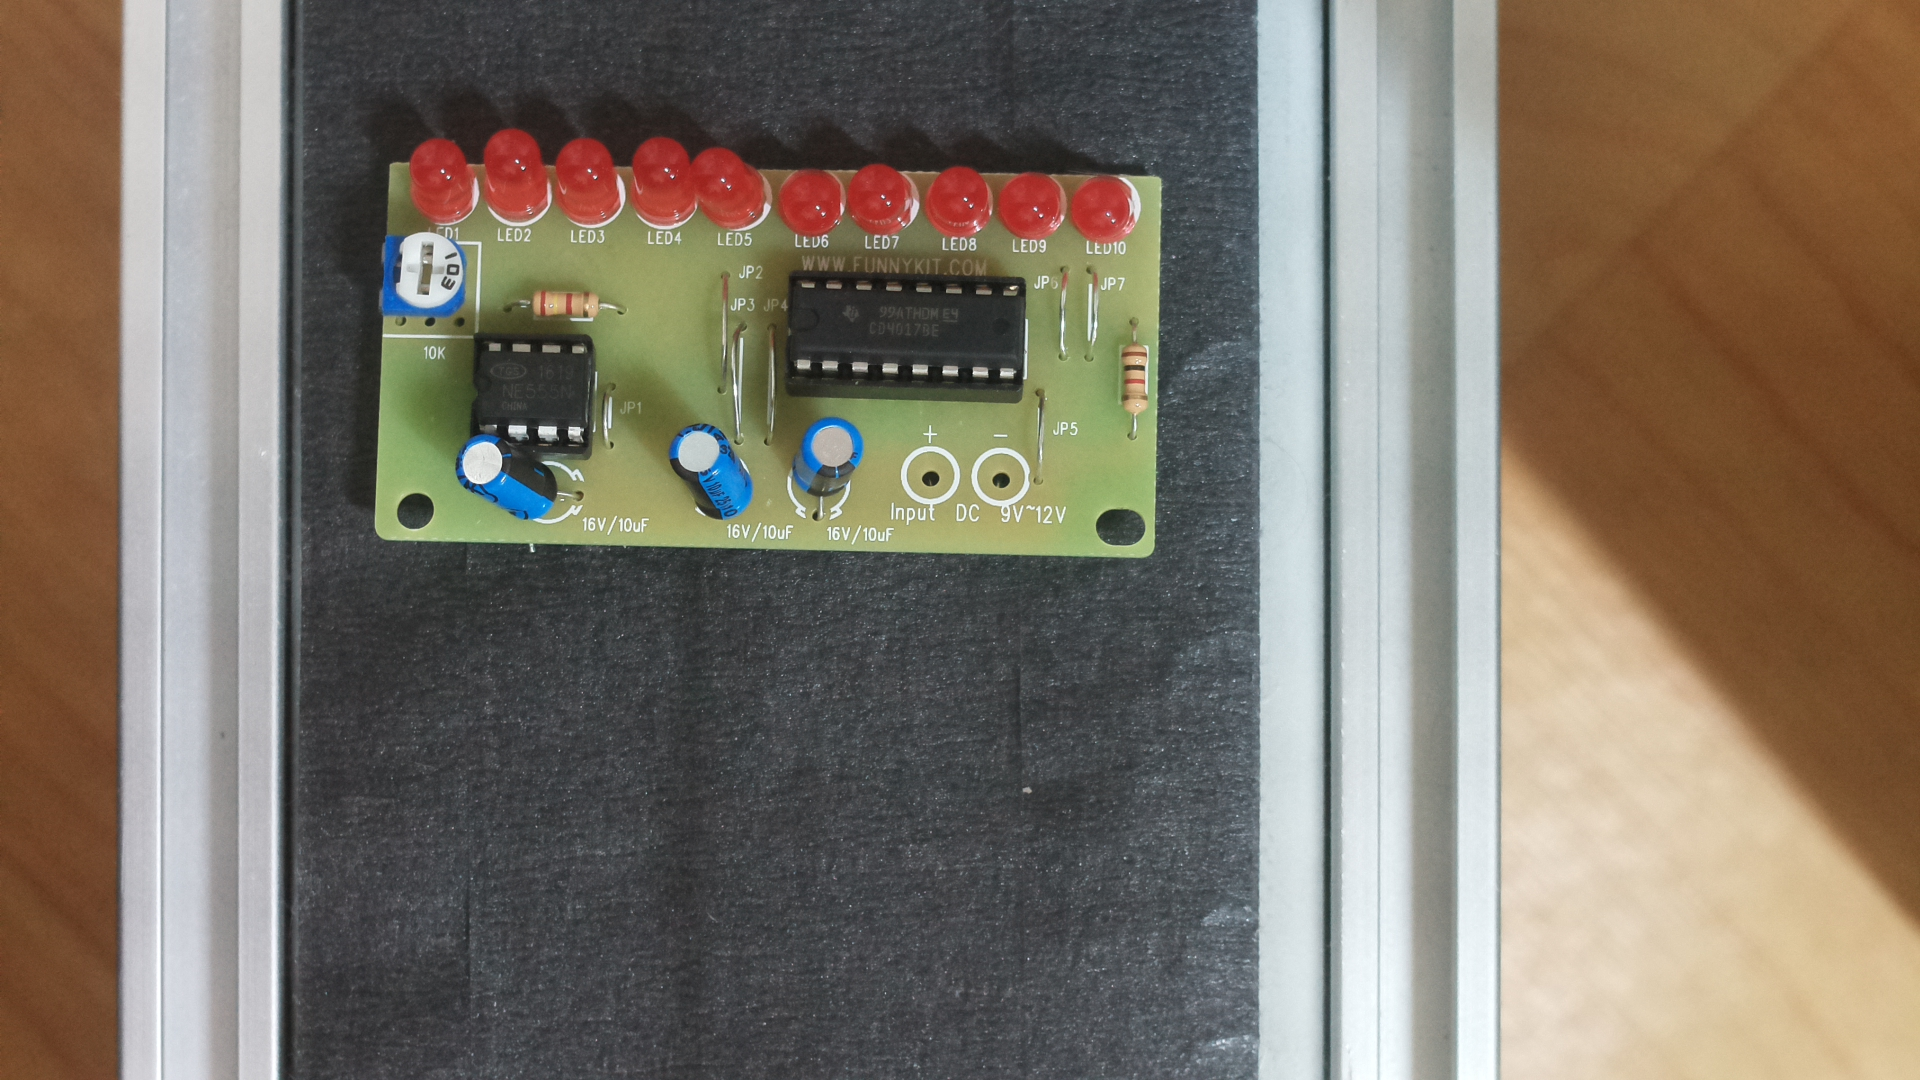B_Normal: (361, 132, 1192, 604)
